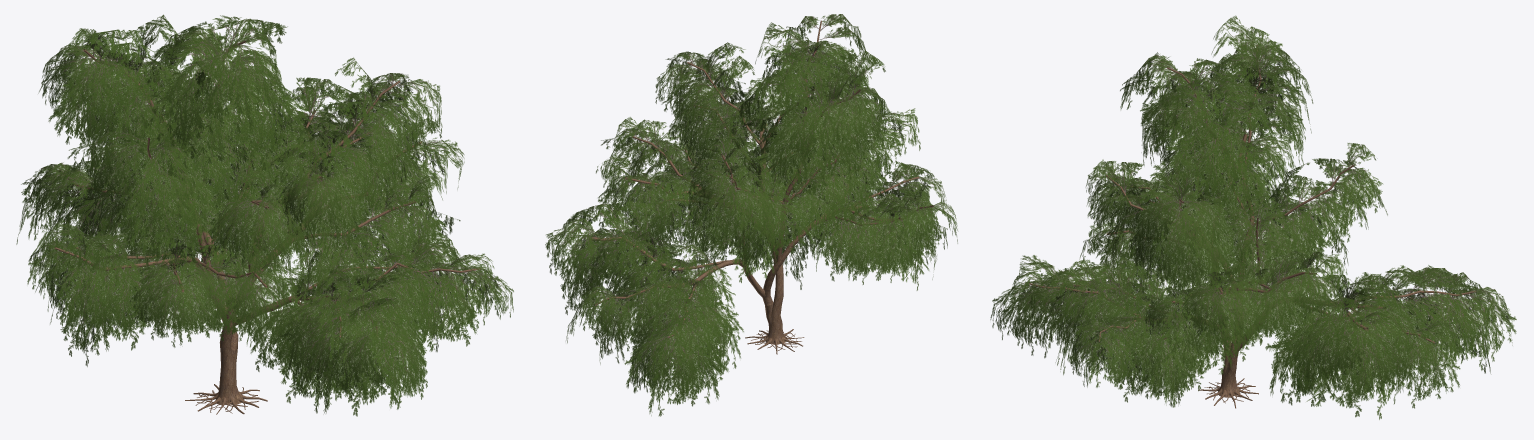
3 views of the same model, side by side, from view 1: azimuth 30°, elevation 25°; view 2: azimuth 150°, elevation 25°; view 3: azimuth 270°, elevation 25° (orthographic). The views are drawn at different scales.
Parts seen in each view (by area): view 1: Prosopis_Tree__02; view 2: Prosopis_Tree__02; view 3: Prosopis_Tree__02.
Boxes of the visible parts, box(x1,y1,x2,y2) form: Prosopis_Tree__02: box(16, 14, 513, 416); Prosopis_Tree__02: box(545, 14, 957, 416); Prosopis_Tree__02: box(990, 15, 1516, 419).
Bounding box in the file's own units: 2.09 × 1.77 × 2.61.
Materials: 2 (2 with a texture image).
